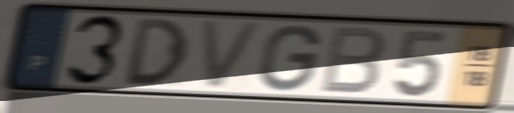3: (59, 12, 129, 88)
5: (391, 28, 450, 99)
B: (317, 24, 387, 97)
D: (123, 16, 191, 88)
G: (256, 22, 324, 93)
V: (198, 18, 267, 92)
